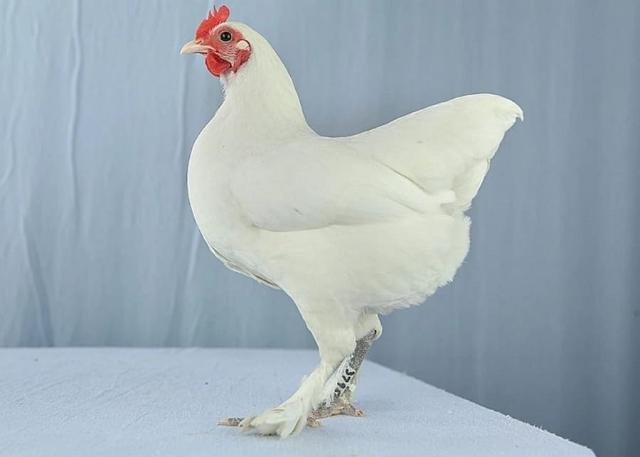Chicken: (180, 6, 525, 439)
